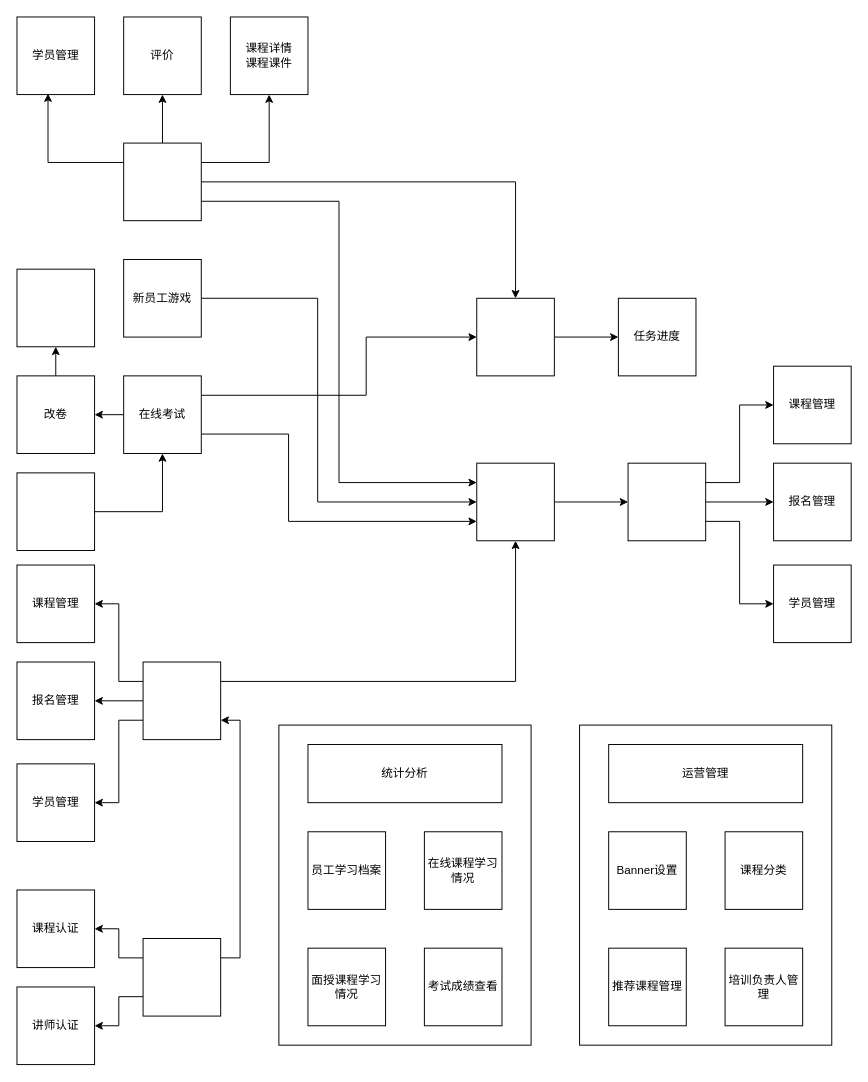
The diagram is 868 pixels wide and 1082 high, and some of its shapes have lost their labels. Here are the shapes that lost their labels. From the top down, the centre of each, then its label:
At point (162, 181): "在线课程".
At point (55, 307): "考试成绩".
At point (515, 336): "任务".
At point (55, 511): "题库".
At point (515, 501): "项目制培训".
At point (666, 501): "项目管理".
At point (181, 700): "面授课程".
At point (181, 977): "讲师管理".
